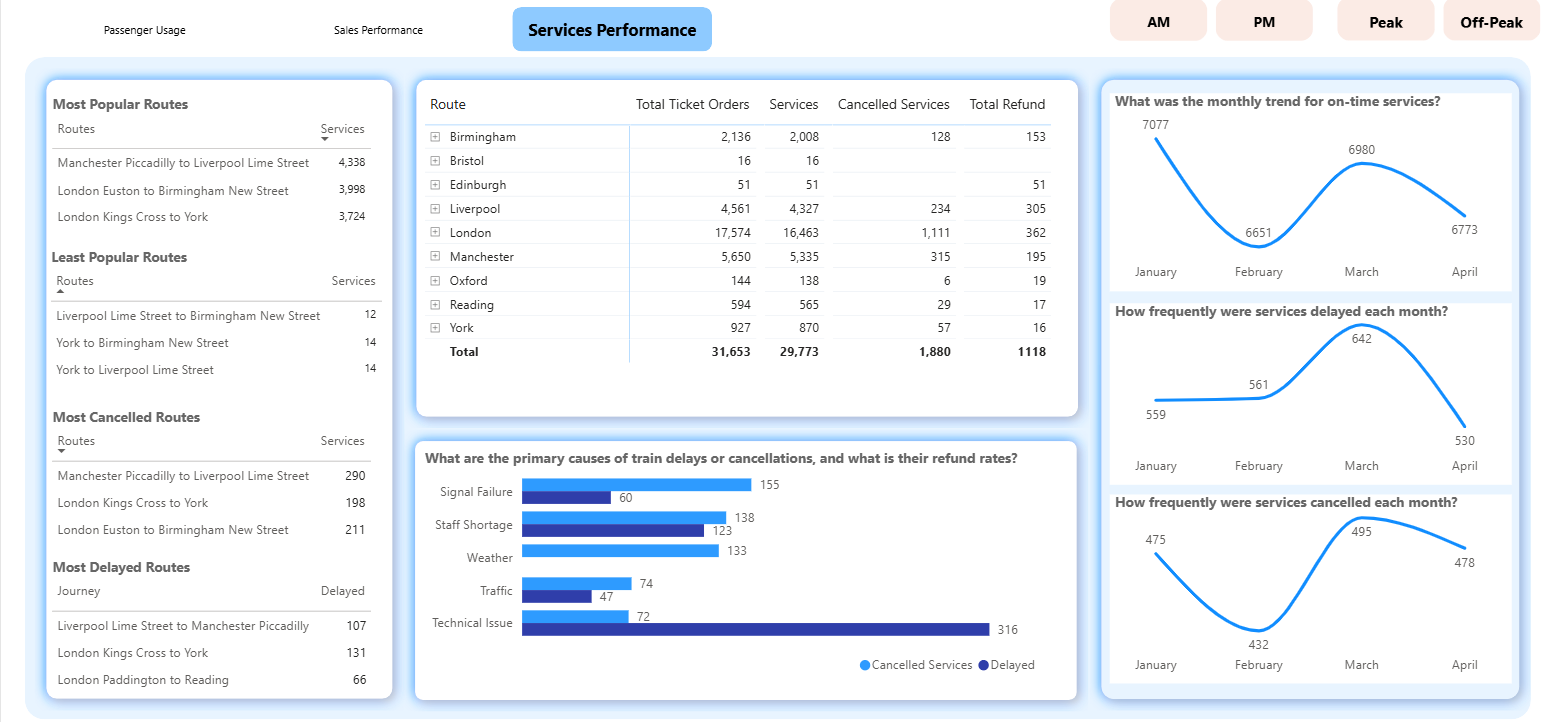

What the dashboard file says about the page in this screenshot:
{"tool":"powerbi","page":{"name":"Page 4","canvas":[1500,720],"ordinal":2},"visuals":[{"type":"shape","box":[1050.8,73.6,425.9,620.1],"z":0},{"type":"shape","box":[22.9,62.7,1453.8,639.4],"z":1000},{"type":"shape","box":[388.9,422.7,661.1,272.2],"z":2000},{"type":"shape","box":[389.7,73.6,661.1,347.5],"z":3000},{"type":"shape","box":[32.9,73.7,356.6,619.7],"z":4000},{"type":"pivotTable","title":"Most Popular Routes","fields":{"Rows":["Railway.Journey"],"Values":["Measure Table.Journey"]},"box":[44.7,98.7,331.6,135.5],"z":5000},{"type":"pivotTable","title":"Most Cancelled Routes","fields":{"Rows":["Railway.Journey"],"Values":["Measure Table.Cancelled Services"]},"box":[44.7,400,340.8,142.1],"z":6000},{"type":"pivotTable","title":"Most Delayed Routes","fields":{"Rows":["Railway.Journey"],"Values":["Measure Table.Delayed"]},"box":[44.7,544.7,342.1,142.1],"z":7000},{"type":"advancedSlicerVisual","fields":{"Values":["Railway.Period"]},"box":[1285.2,0,207.9,52.6],"z":8000},{"type":"advancedSlicerVisual","fields":{"Values":["Railway.AM/PM"]},"box":[1065.1,1.2,206.7,51.4],"z":9000},{"type":"pivotTable","fields":{"Rows":["Railway.Route","Railway.Journey"],"Values":["Measure Table.Total Ticket Orders","Measure Table.Journey","Measure Table.Cancelled Services","Measure Table.Total Refund"]},"box":[404.2,90.5,633.4,310.1],"z":10000},{"type":"actionButton","box":[494,14,193,43],"z":11000},{"type":"actionButton","box":[268,14,193,43],"z":12000},{"type":"actionButton","box":[42,14,193,43],"z":13000},{"type":"pivotTable","title":"Least Popular Routes","fields":{"Rows":["Railway.Journey"],"Values":["Measure Table.Journey"]},"box":[43.4,246.1,331.6,139.5],"z":14000},{"type":"lineChart","fields":{"Category":["Railway.Date of Journey.Variation.Date Hierarchy.Month"],"Y":["Measure Table.Delayed"]},"box":[1070.2,300.6,387.6,175.6],"z":15000},{"type":"lineChart","fields":{"Category":["Railway.Date of Journey.Variation.Date Hierarchy.Month1"],"Y":["Measure Table.Ontime Services"]},"box":[1070.2,98.3,387.6,191],"z":16000},{"type":"lineChart","fields":{"Category":["Railway.Date of Journey.Variation.Date Hierarchy.Month"],"Y":["Measure Table.Cancelled Services"]},"box":[1070.2,484.6,387.6,182.6],"z":17000},{"type":"clusteredBarChart","fields":{"Category":["Railway.Delay Reasons"],"Y":["Measure Table.Cancelled Services","Measure Table.Delayed"]},"box":[403.8,444.1,603.6,224.2],"z":18000},{"type":"textbox","title":"What proportion of the passengers are Railcard users versus non-users?","box":[404.2,435.5,589.9,45.8],"z":19000},{"type":"textbox","title":"What proportion of the passengers are Railcard users versus non-users?","box":[1070.1,477.8,369.2,45.8],"z":20000},{"type":"textbox","title":"What proportion of the passengers are Railcard users versus non-users?","box":[1070.1,293.2,369.2,45.8],"z":21000},{"type":"textbox","title":"What proportion of the passengers are Railcard users versus non-users?","box":[1070.1,90.5,369.2,45.8],"z":22000}]}

Visuals, with their boxes in screenshot pixels (x1, y1, x2, y2), scaled from the page's 1500x720 canvas onto the 1547x722 screenshot:
shape: Rect(1084, 74, 1523, 696)
shape: Rect(24, 63, 1523, 704)
shape: Rect(401, 424, 1083, 697)
shape: Rect(402, 74, 1084, 422)
shape: Rect(34, 74, 402, 695)
"Most Popular Routes" pivotTable: Rect(46, 99, 388, 235)
"Most Cancelled Routes" pivotTable: Rect(46, 401, 398, 544)
"Most Delayed Routes" pivotTable: Rect(46, 546, 399, 689)
advancedSlicerVisual - Railway.Period: Rect(1325, 0, 1540, 53)
advancedSlicerVisual - Railway.AM/PM: Rect(1098, 1, 1312, 53)
pivotTable - Railway.Route x Railway.Journey: Rect(417, 91, 1070, 402)
actionButton: Rect(509, 14, 709, 57)
actionButton: Rect(276, 14, 475, 57)
actionButton: Rect(43, 14, 242, 57)
"Least Popular Routes" pivotTable: Rect(45, 247, 387, 387)
lineChart - Railway.Date of Journey.Variation.Date Hierarchy.Month x Measure Table.Delayed: Rect(1104, 301, 1503, 478)
lineChart - Railway.Date of Journey.Variation.Date Hierarchy.Month1 x Measure Table.Ontime Services: Rect(1104, 99, 1503, 290)
lineChart - Railway.Date of Journey.Variation.Date Hierarchy.Month x Measure Table.Cancelled Services: Rect(1104, 486, 1503, 669)
clusteredBarChart - Railway.Delay Reasons x Measure Table.Cancelled Services: Rect(416, 445, 1039, 670)
"What proportion of the passengers are Railcard users versus non-users?" textbox: Rect(417, 437, 1025, 483)
"What proportion of the passengers are Railcard users versus non-users?" textbox: Rect(1104, 479, 1484, 525)
"What proportion of the passengers are Railcard users versus non-users?" textbox: Rect(1104, 294, 1484, 340)
"What proportion of the passengers are Railcard users versus non-users?" textbox: Rect(1104, 91, 1484, 137)
